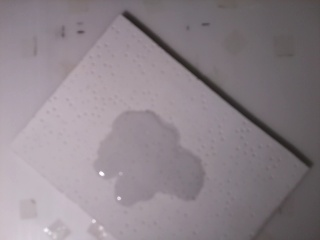Water_detected: (107, 128, 187, 188)
